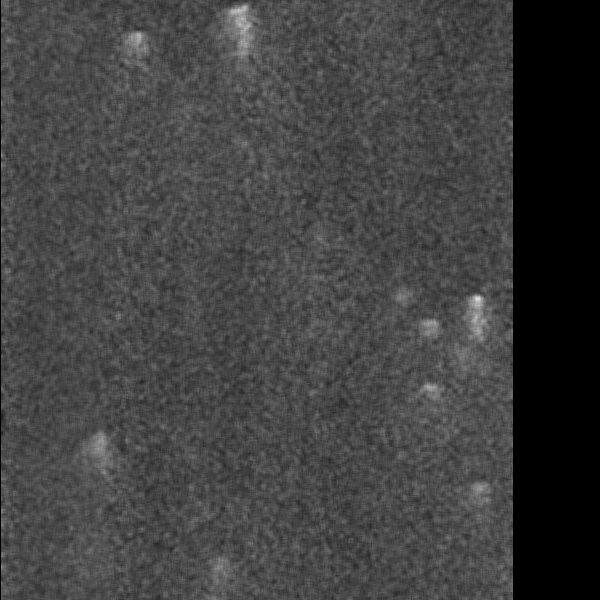spark: (221, 1, 255, 103), (87, 422, 111, 525), (453, 309, 475, 396), (122, 23, 147, 95), (464, 288, 486, 366), (415, 314, 442, 365), (206, 550, 230, 600), (469, 475, 495, 512), (421, 374, 444, 413)
